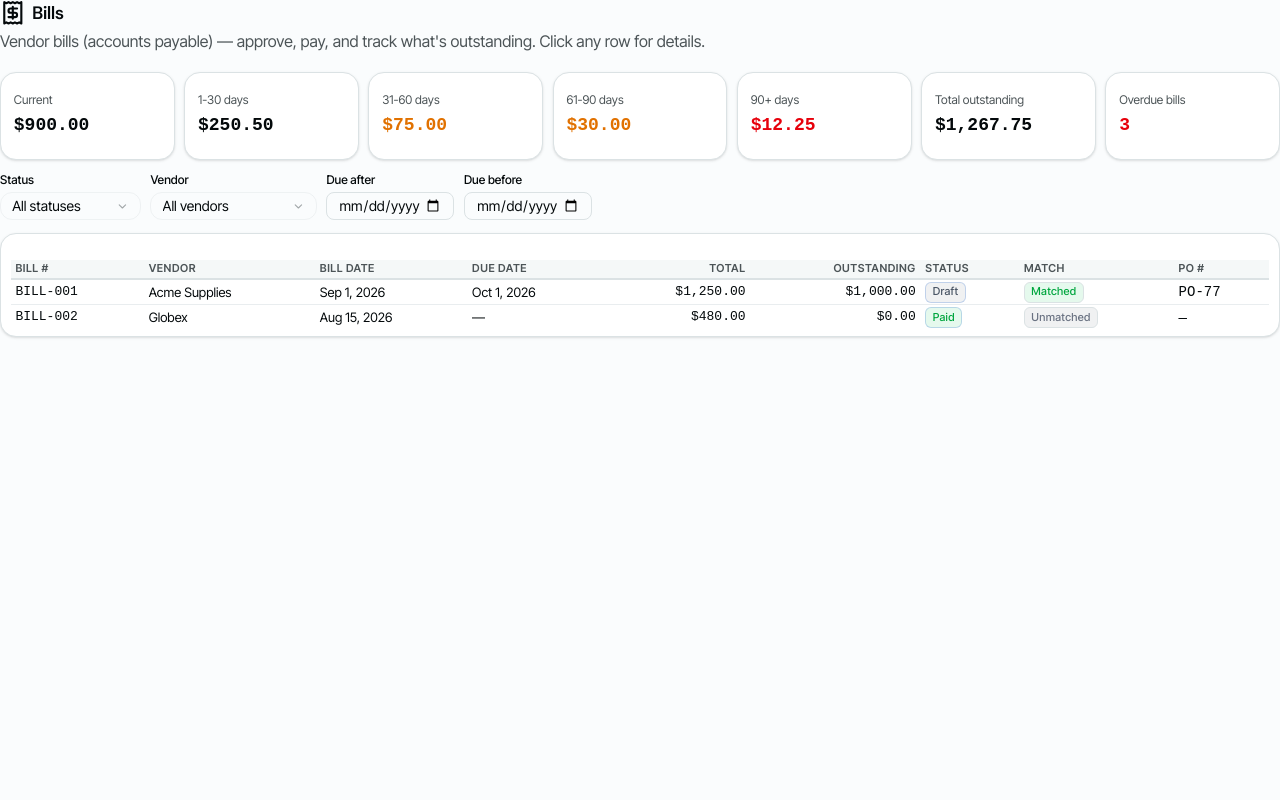
Test: Bills page › hides Approve / Mark paid / Edit and the create buttons for a sales user
This screenshot has width=1280, height=800.
Click the text "BILL-001" at (77, 292), box x1=11 y1=279 x2=144 y2=305
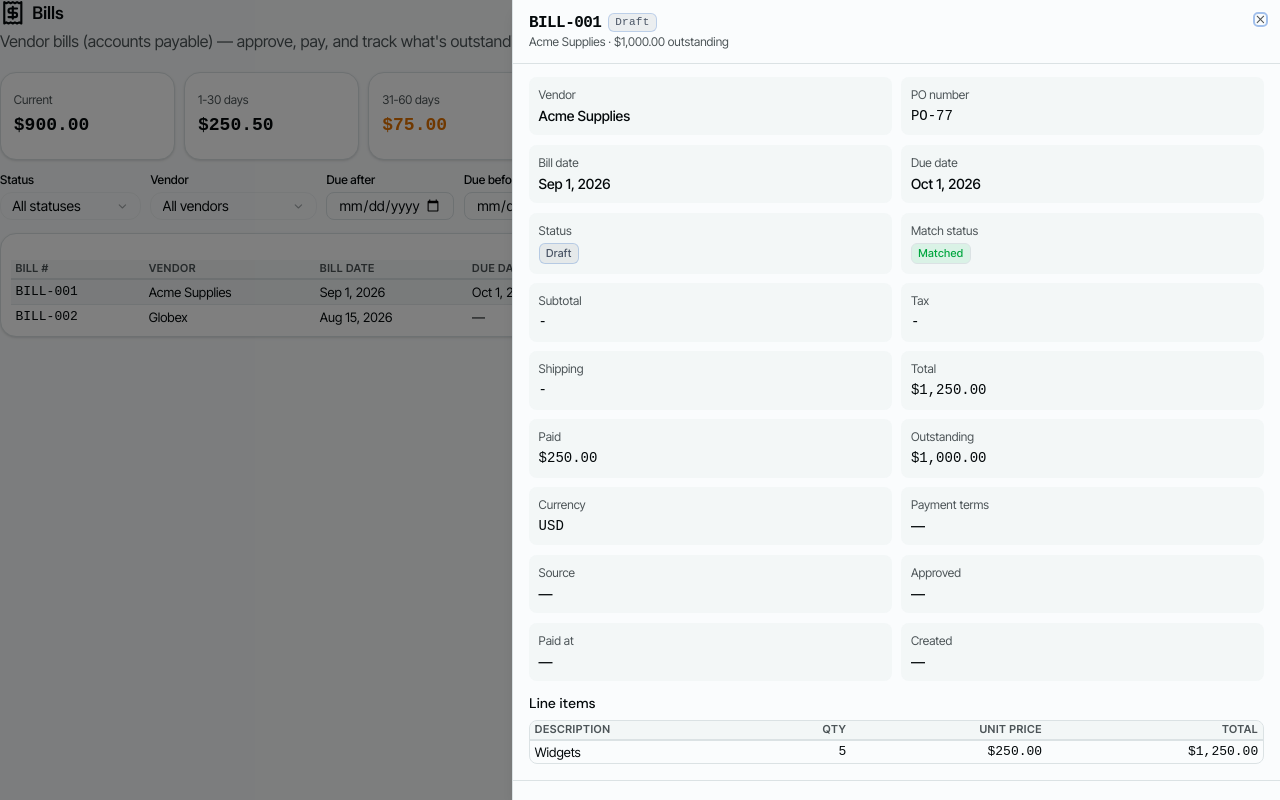
Expected: the text "Widgets" is shown, x1=530 y1=740 x2=761 y2=763
